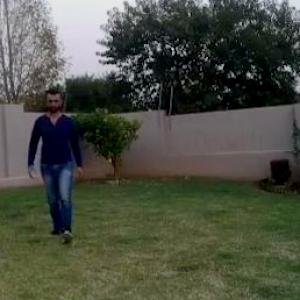follow: (37, 92, 84, 237)
